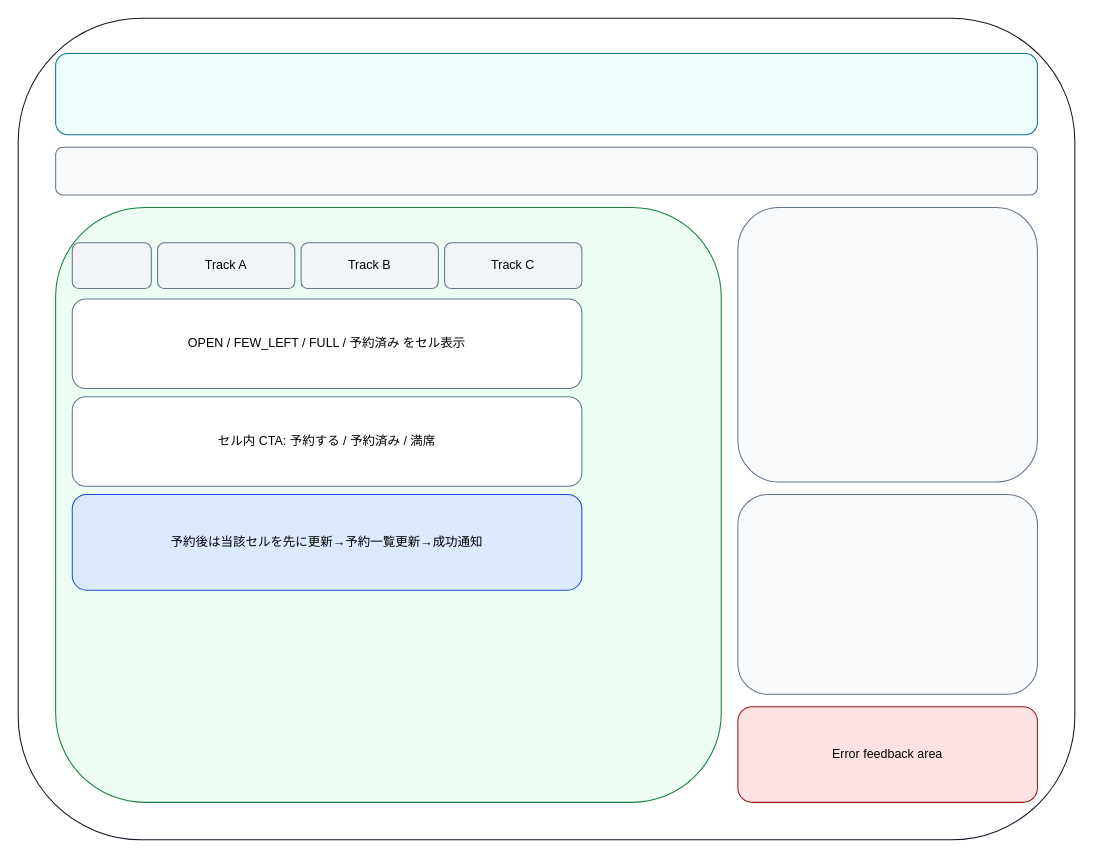
Image size: 1093x858. Some labels were removed from this diagram. Each missing label, with the centre of its shape:
Header / Event / Guest / Filter: pixel 546 94
Main layout: Timetable (left) + Reserved/QR (right): pixel 546 170
QR panel: pixel 887 593
Reserved list panel: pixel 887 344
Time: pixel 111 265
